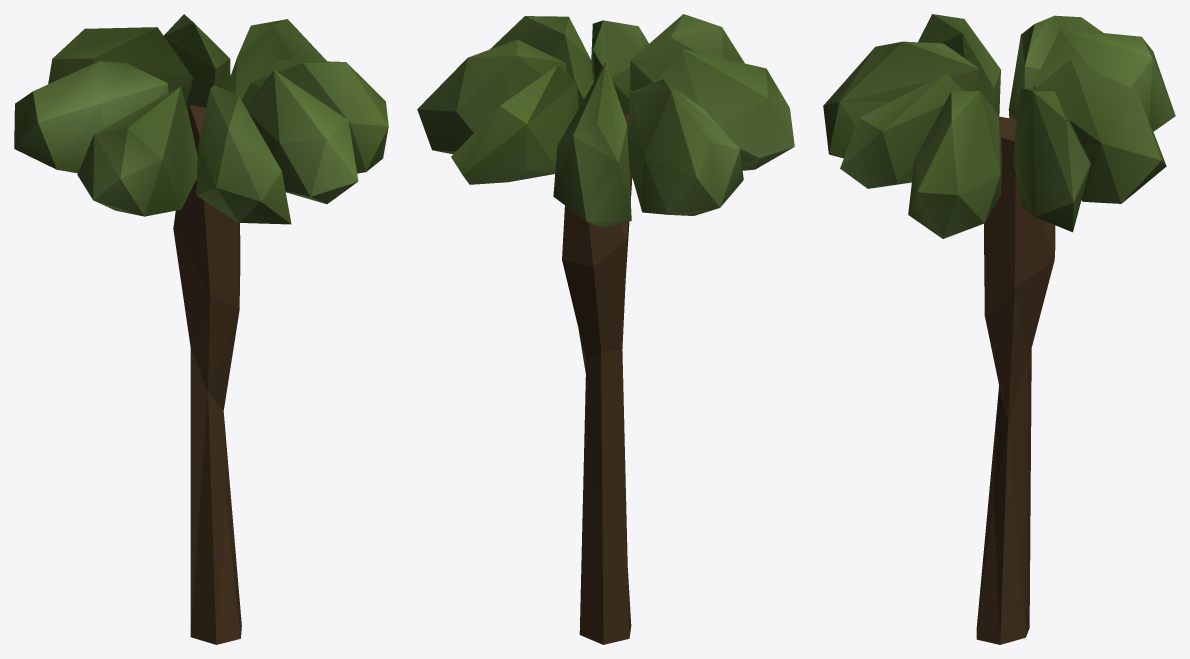
File: palm_low.glb
3 renders of one model, left to right at view 1: azimuth 30°, elevation 25°; view 2: azimuth 150°, elevation 25°; view 3: azimuth 270°, elevation 25°, orthographic.
Parts seen in each view (by area): view 1: palm_low; view 2: palm_low; view 3: palm_low.
Part boxes in pixels (x1=…): palm_low: x1=14, y1=14, x2=388, y2=644; palm_low: x1=417, y1=14, x2=794, y2=644; palm_low: x1=823, y1=14, x2=1175, y2=644.
Size of the model in its own units: 1.52 by 2.8 by 1.51.
